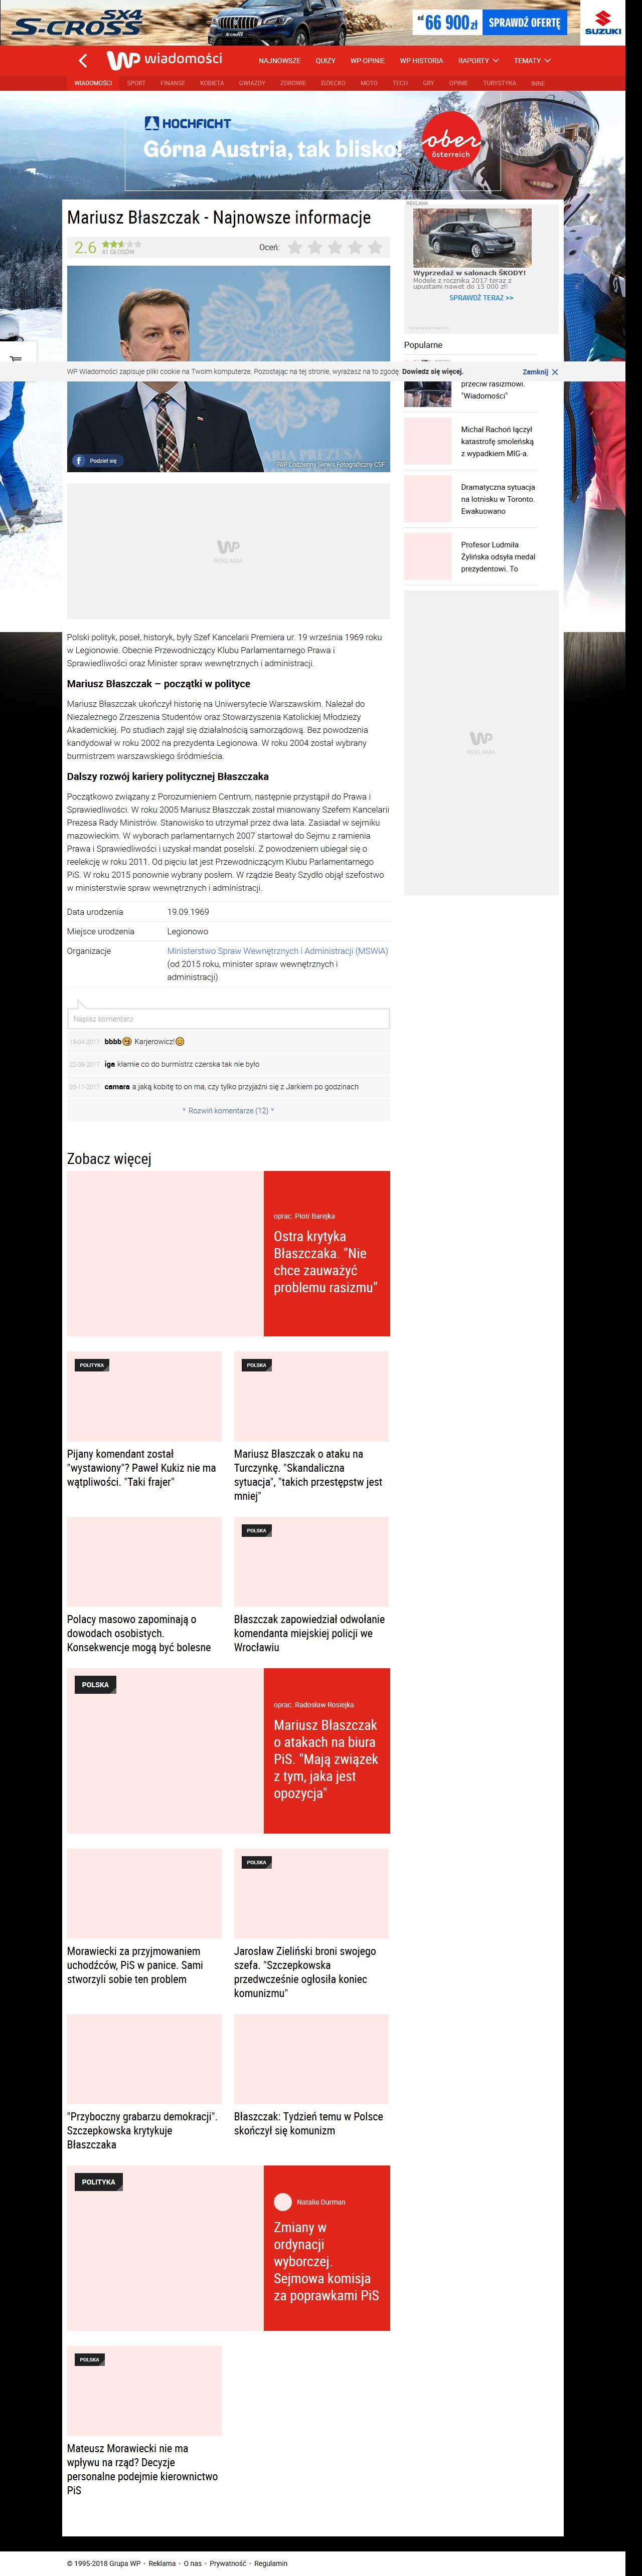title: (67, 209, 371, 228)
